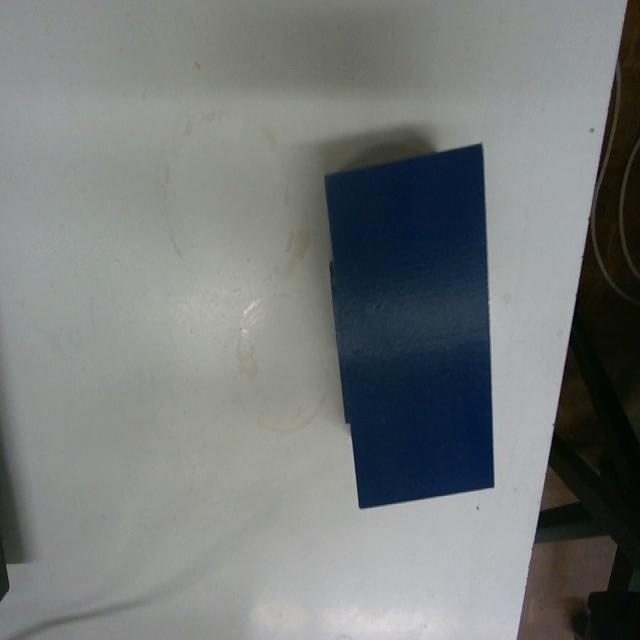Blue Cuboid: (322, 139, 496, 509)
